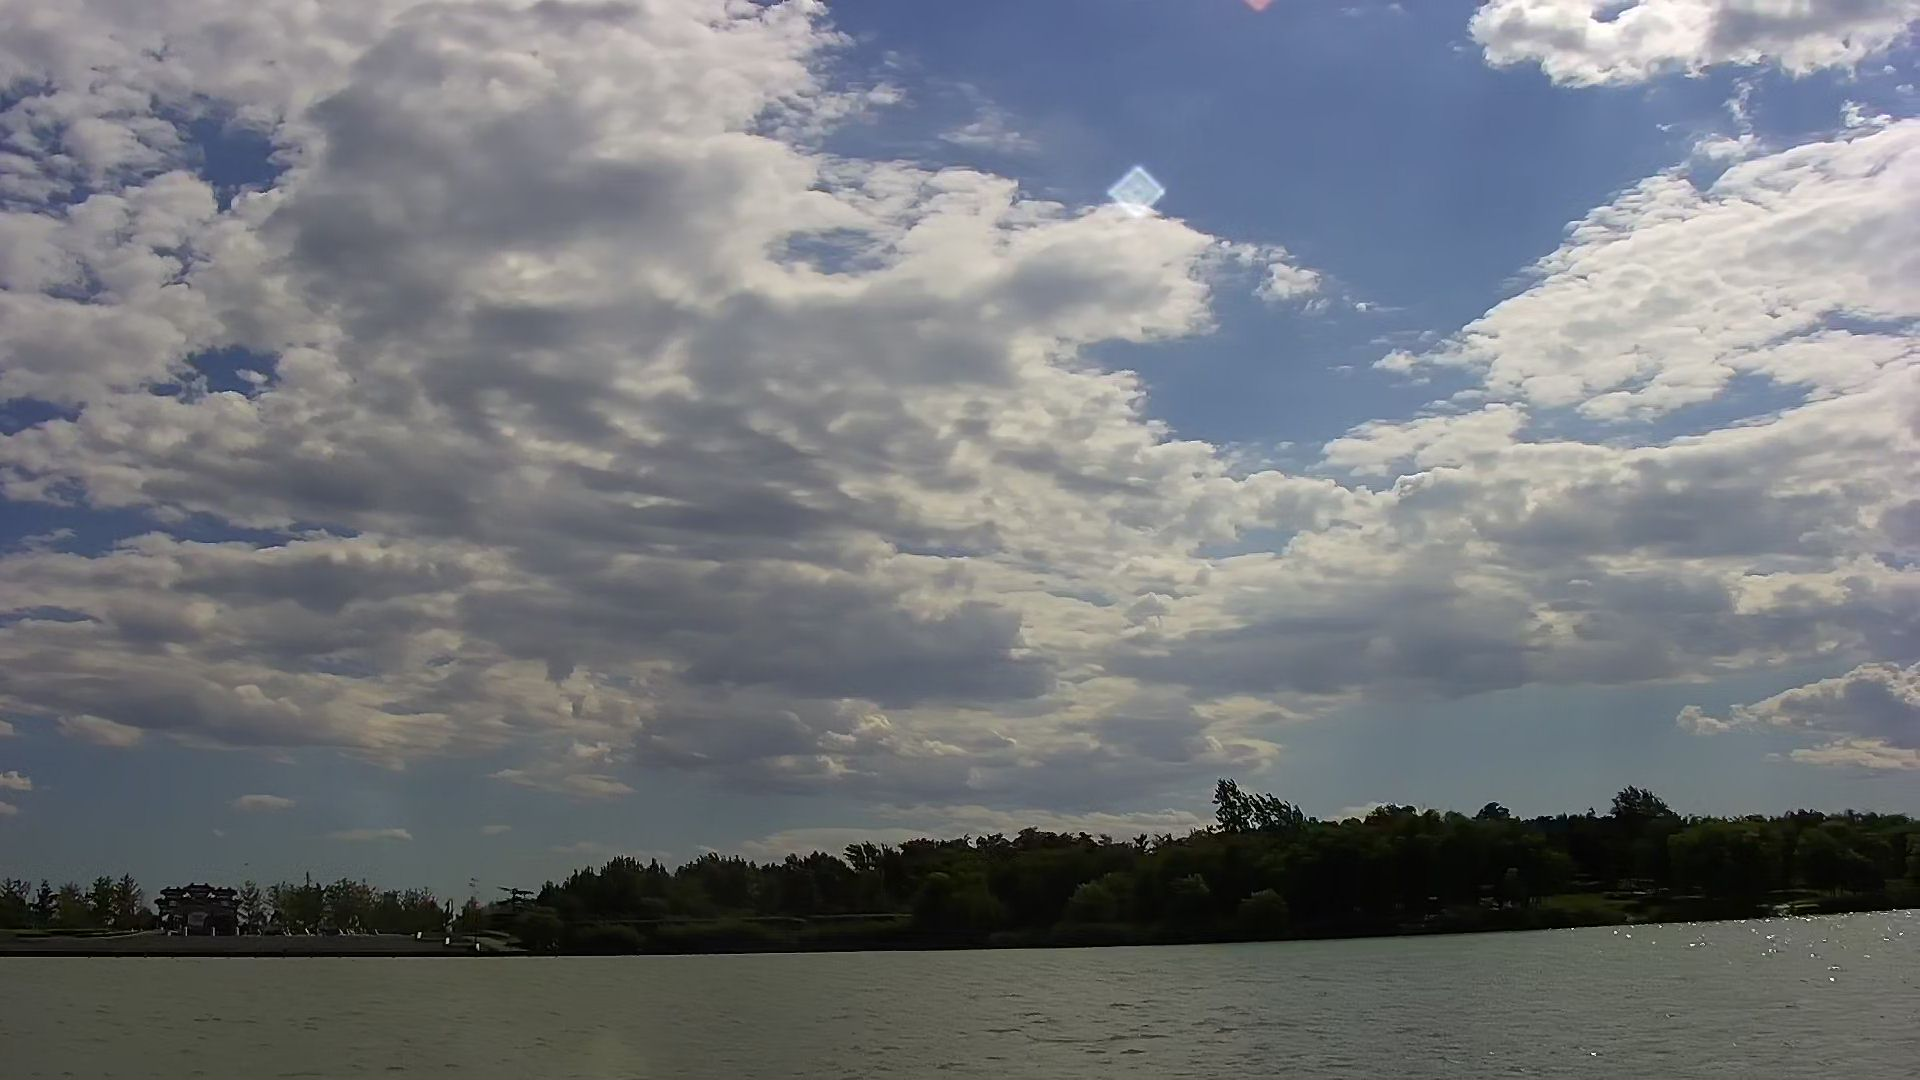harbor: (22, 920, 527, 960)
